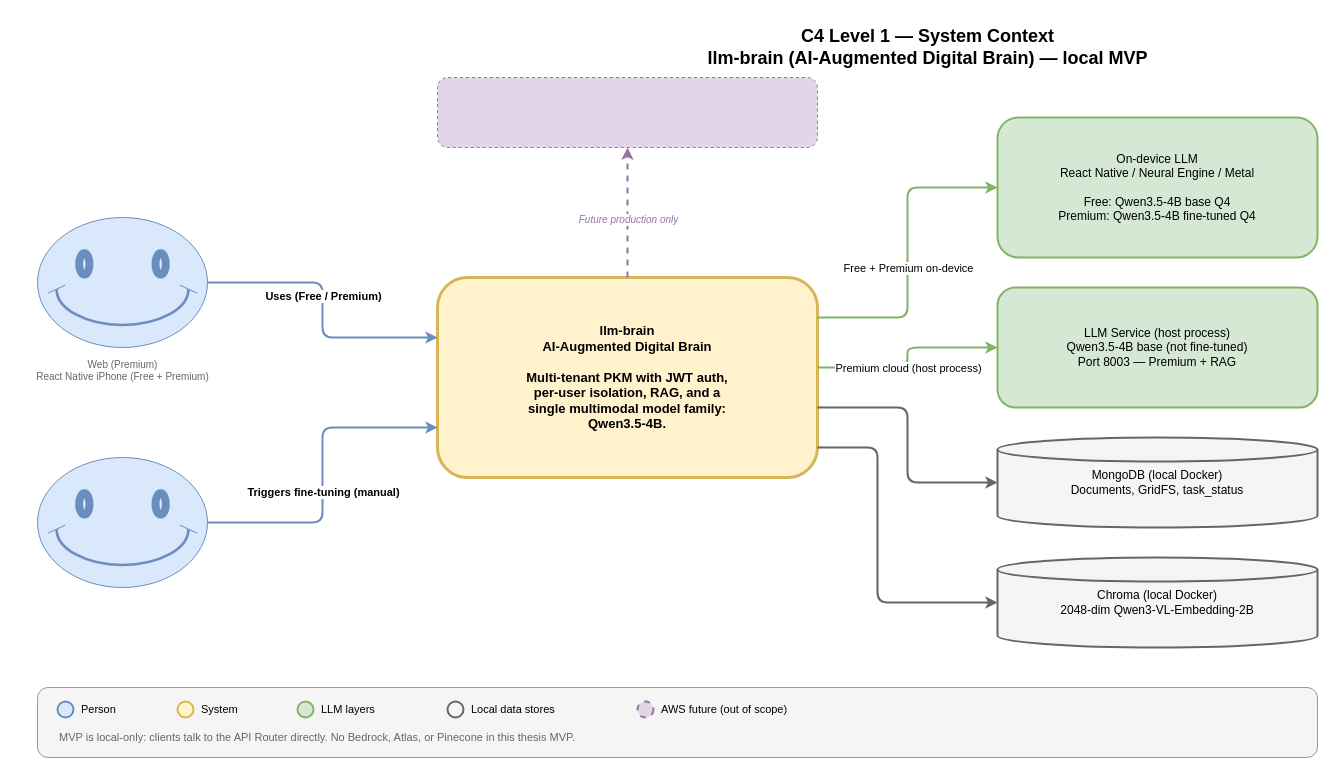
Image size: 1335x775. Some labels were removed from this diagram. Here are the shapes that lost their labels. From the top down, the box of each, then its label:
(436, 76, 818, 148): AWS API Gateway + ECS Fargate (FUTURE — out of MVP scope)
(36, 216, 208, 348): User (multi-tenant)
(36, 456, 208, 588): Admin (manual LoRA trigger)
